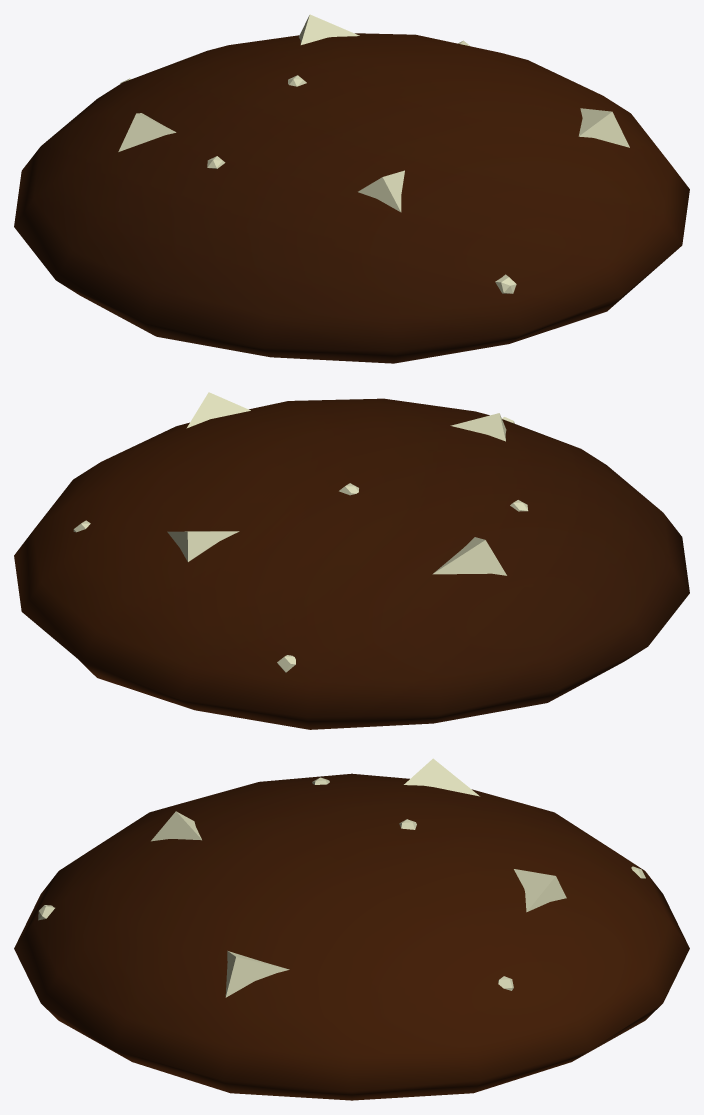
The model's file is SM_cookie.fbx.
The picture shows the model from 3 angles, top to bottom: view 1: azimuth 30°, elevation 25°; view 2: azimuth 150°, elevation 25°; view 3: azimuth 270°, elevation 25°; orthographic projection.
Parts seen in each view (by area): view 1: biscotto_hp; view 2: biscotto_hp; view 3: biscotto_hp.
Part boxes in pixels (x1=…): biscotto_hp: x1=14, y1=14, x2=689, y2=363; biscotto_hp: x1=14, y1=392, x2=689, y2=729; biscotto_hp: x1=14, y1=758, x2=689, y2=1100.
Size of the model in its own units: 1.77 by 0.4113 by 1.77.
